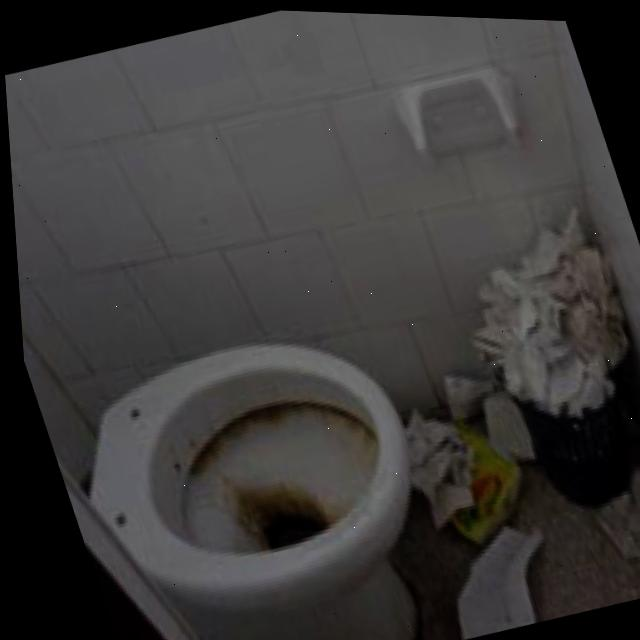dirty_area: (150, 375, 411, 575)
garbage: (377, 359, 571, 640)
overflow_bin: (434, 182, 640, 585)
